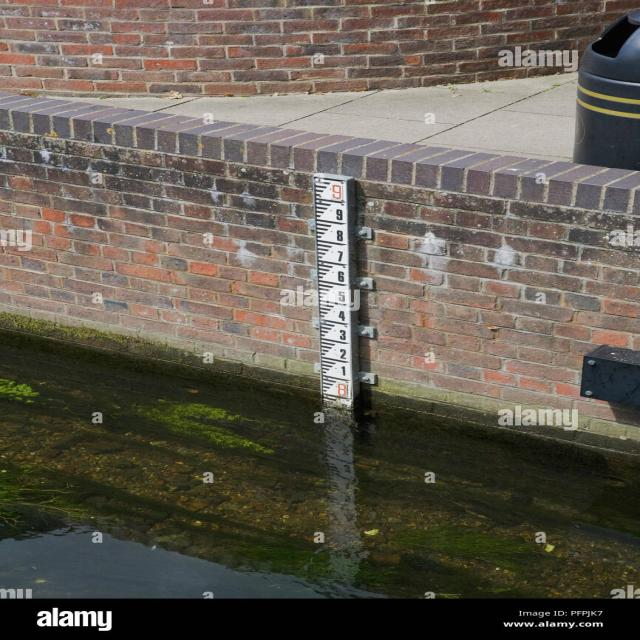ruler: (302, 169, 363, 410)
value: (332, 181, 346, 201), (335, 268, 350, 286), (333, 229, 348, 246), (336, 381, 350, 399), (333, 208, 347, 225), (336, 327, 350, 342), (337, 346, 351, 361), (335, 248, 347, 264), (338, 288, 350, 304), (338, 309, 350, 324), (338, 364, 350, 378)
